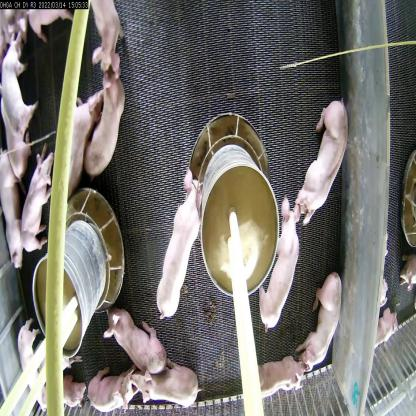Pig: (297, 99, 355, 237), (153, 172, 203, 316), (260, 192, 302, 338), (25, 316, 88, 408), (86, 77, 134, 177), (54, 95, 97, 197), (16, 148, 53, 261), (139, 350, 203, 408), (78, 362, 147, 415), (104, 306, 164, 366), (304, 278, 340, 377), (0, 154, 29, 266), (90, 1, 128, 82), (256, 348, 308, 407), (4, 41, 36, 126)
